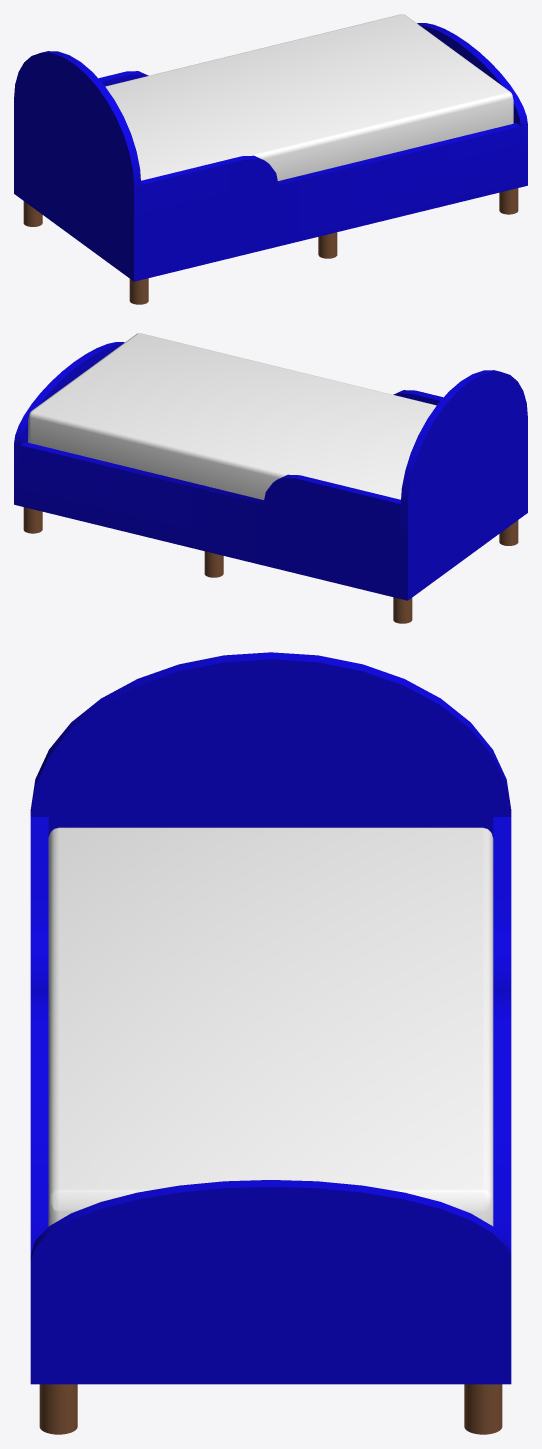
The model's file is Bed.fbx.
The picture shows the model from 3 angles, top to bottom: view 1: azimuth 30°, elevation 25°; view 2: azimuth 150°, elevation 25°; view 3: azimuth 270°, elevation 25°; orthographic projection. The views are drawn at different scales.
Parts seen in each view (by area): view 1: Bed; view 2: Bed; view 3: Bed.
Boxes of the visible parts, x1,y1,x2,y2 form: Bed: [14, 14, 527, 304]; Bed: [14, 333, 527, 623]; Bed: [30, 652, 511, 1434].
Bounding box in the file's own units: 348 × 170 × 184.
